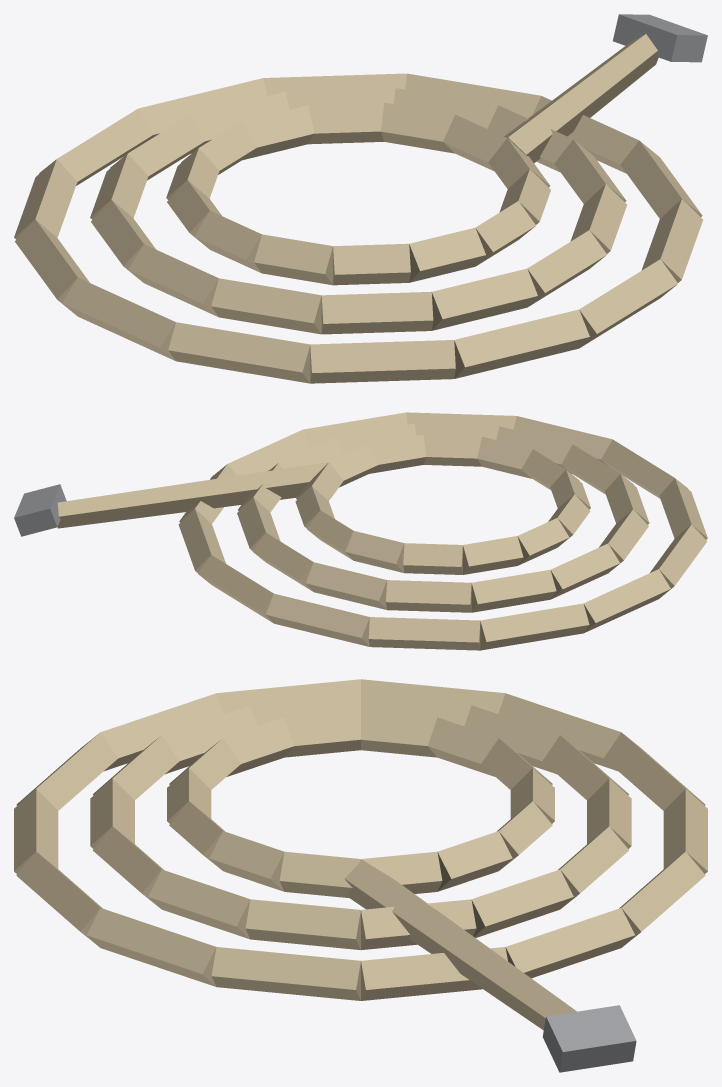
Rendered from lead_rope.glb.
3 views of the same model, one above another, from view 1: azimuth 30°, elevation 25°; view 2: azimuth 150°, elevation 25°; view 3: azimuth 270°, elevation 25° (orthographic). The views are drawn at different scales.
Parts seen in each view (by area): view 1: lead_rope; view 2: lead_rope; view 3: lead_rope.
Part boxes in pixels (x1,y1,x2,y2): lead_rope: (14, 14, 707, 383); lead_rope: (14, 412, 707, 650); lead_rope: (14, 679, 707, 1072).
Bounding box in the file's own units: 0.6781 × 0.064 × 0.5312.
